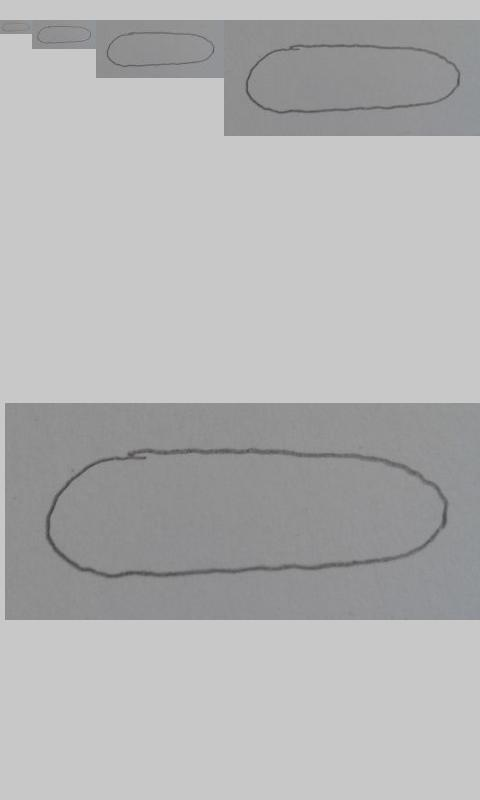chip: (45, 448, 449, 579), (245, 43, 462, 115), (106, 31, 215, 68), (37, 25, 92, 44), (1, 21, 31, 32)
